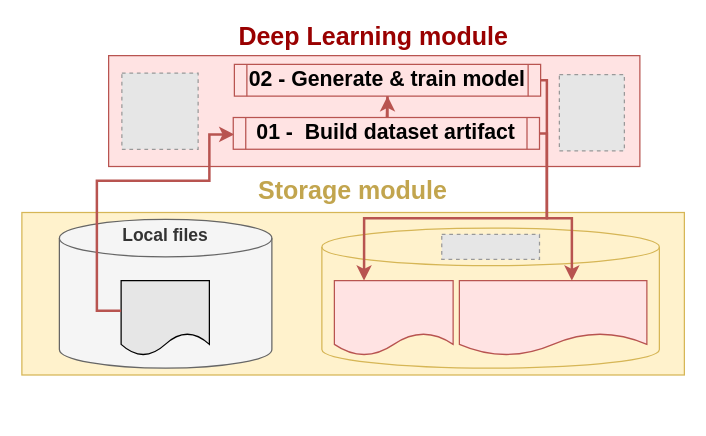
Some shapes in this 706 by 436 pixel diagram are drawn without their labels. Grey dashed boxes stand in for pictures. Each missing label, with the centre of its shape:
"Artifact dataset" belongs at (393,317).
"Artifact l earner (model)" belongs at (552,317).
"Time series" belongs at (164,317).
